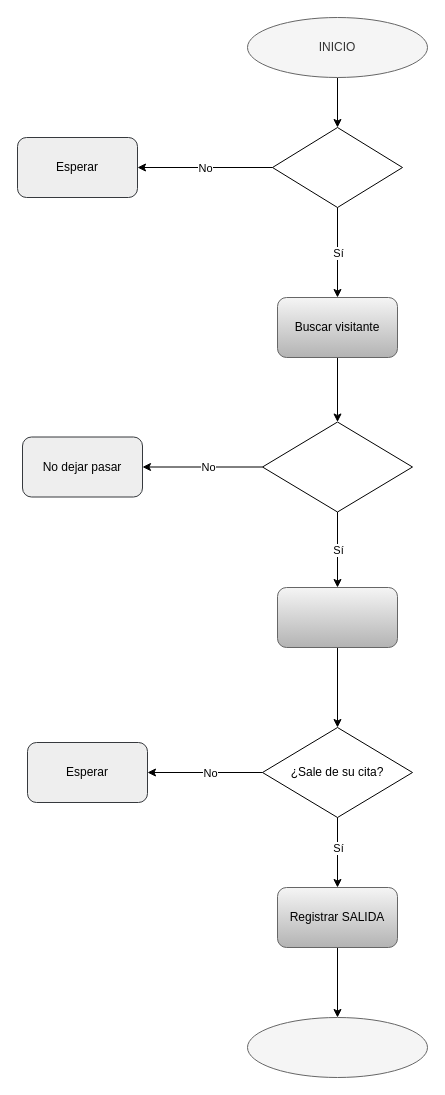
Image size: 445x1095. Some labels were removed from this diagram. Each missing label, with the box of its shape:
FIN: (246, 1016, 428, 1078)
Registrar ENTRADA del visitante: (276, 586, 398, 648)
¿Llega un visitante?: (272, 126, 402, 208)
¿Tiene cita?: (262, 421, 412, 512)
